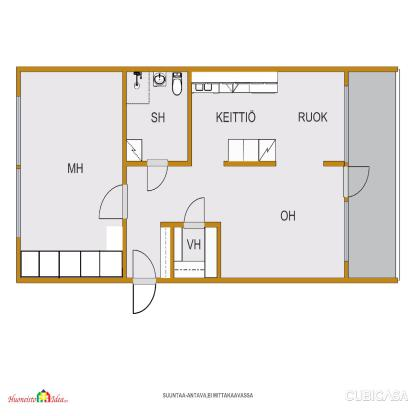door: (132, 248, 156, 314), (99, 183, 128, 220), (342, 164, 371, 196), (145, 159, 168, 194), (184, 194, 206, 229)
window: (344, 82, 350, 161), (15, 169, 22, 236), (15, 96, 21, 164), (344, 202, 349, 260)
zone: (126, 70, 343, 275), (21, 71, 121, 275), (348, 70, 396, 277), (126, 69, 188, 160), (174, 226, 215, 284)
